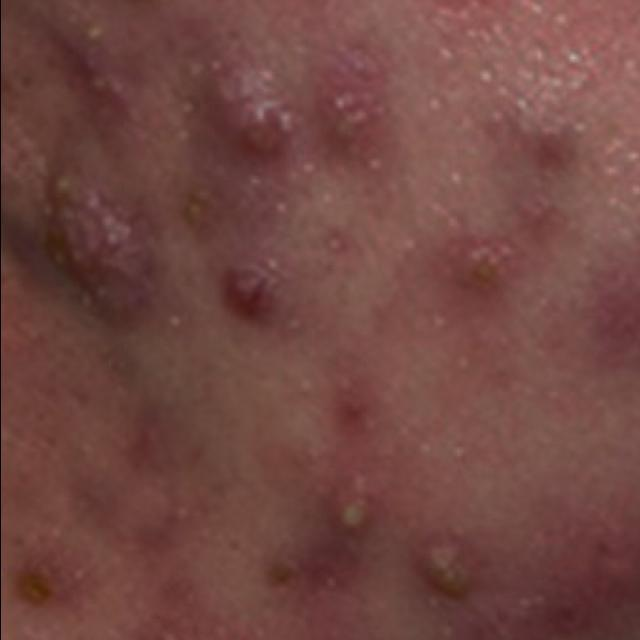acne: (0, 369, 640, 640), (0, 0, 400, 360), (440, 52, 640, 386)
